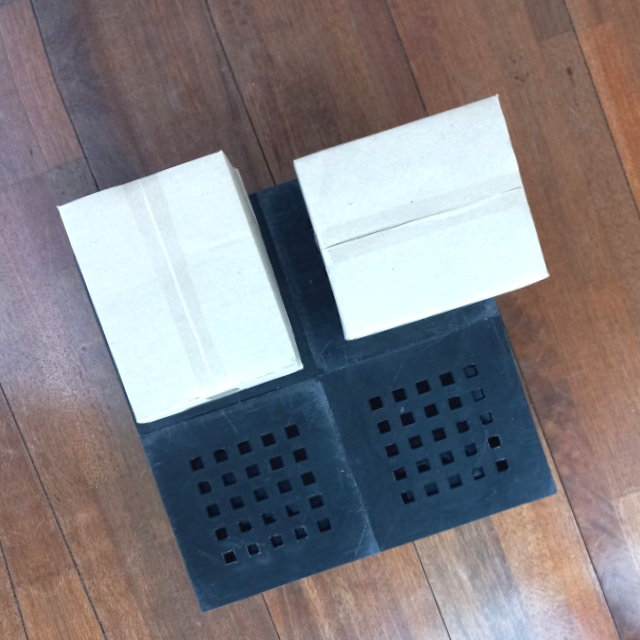box: (57, 150, 302, 424), (289, 94, 548, 346)
